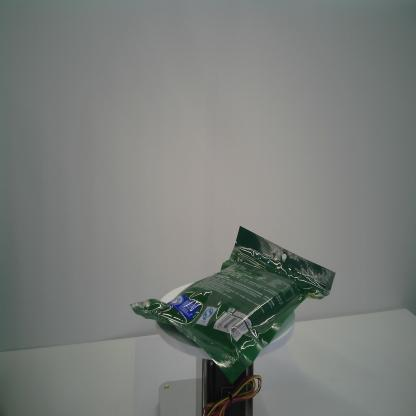Dried Food: (130, 224, 337, 386)
